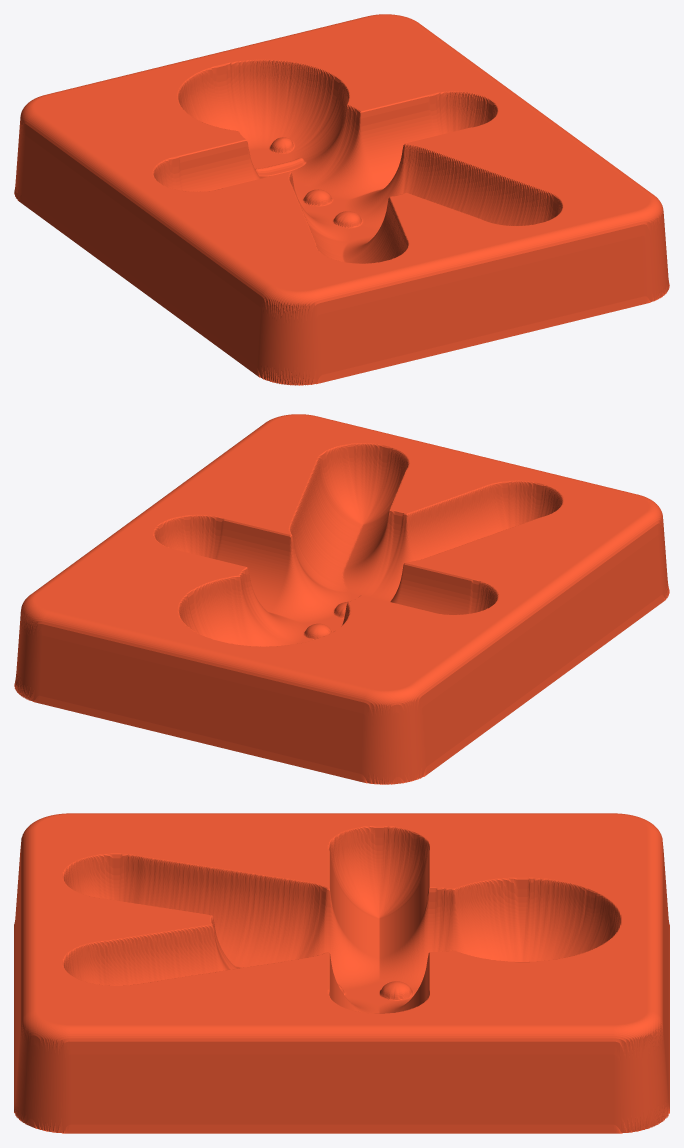
File: mold.glb
The picture shows the model from 3 angles, top to bottom: view 1: azimuth 30°, elevation 25°; view 2: azimuth 150°, elevation 25°; view 3: azimuth 270°, elevation 25°; orthographic projection. The views are drawn at different scales.
Visible parts, largest first — view 1: geometry_0; view 2: geometry_0; view 3: geometry_0.
Part boxes in pixels (x1=…): geometry_0: x1=14, y1=14, x2=669, y2=385; geometry_0: x1=14, y1=414, x2=669, y2=784; geometry_0: x1=14, y1=813, x2=669, y2=1133.
Bounding box in the file's own units: 0.0868 × 0.0175 × 0.105.
